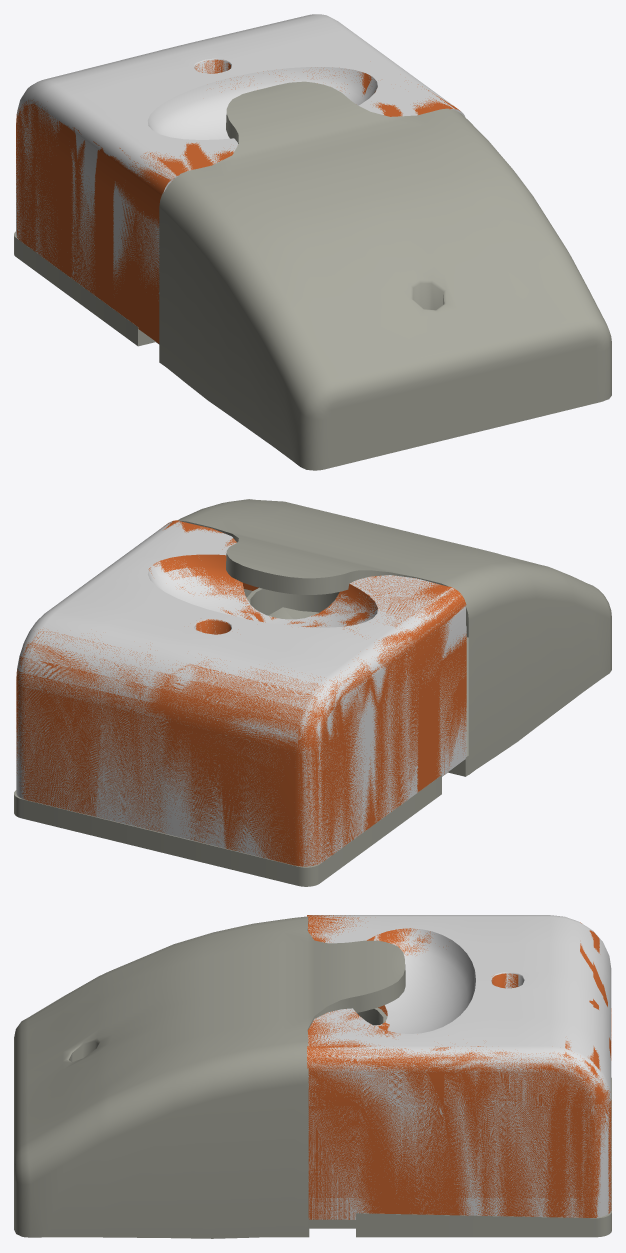
The model's file is sirena_1_orng.fbx.
3 renders of one model, top to bottom at view 1: azimuth 30°, elevation 25°; view 2: azimuth 150°, elevation 25°; view 3: azimuth 270°, elevation 25°, orthographic.
Visible parts, largest first — view 1: sirena_1_orang_LOD0, sirena_1_orang_glass_LOD0; view 2: sirena_1_orang_LOD0, sirena_1_orang_glass_LOD0; view 3: sirena_1_orang_LOD0, sirena_1_orang_glass_LOD0.
Boxes of the visible parts, x1,y1,x2,y2 form: sirena_1_orang_LOD0: [14, 59, 611, 470]; sirena_1_orang_glass_LOD0: [16, 14, 465, 300]; sirena_1_orang_LOD0: [14, 499, 611, 886]; sirena_1_orang_glass_LOD0: [16, 521, 466, 866]; sirena_1_orang_LOD0: [14, 915, 611, 1238]; sirena_1_orang_glass_LOD0: [307, 915, 611, 1219].
Size of what is drawn, in the model's own units: 6.73 by 4.23 by 11.43.
